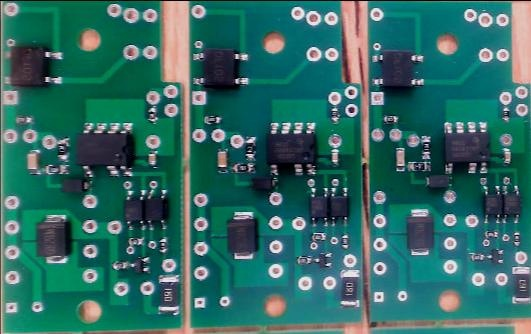chip-capacitor: (25, 148, 41, 175), (216, 147, 229, 173), (394, 146, 405, 172), (146, 149, 159, 169), (501, 147, 512, 165), (329, 148, 339, 166)
chip-resistor: (156, 273, 180, 315), (339, 267, 360, 307), (511, 264, 531, 304), (56, 135, 70, 161), (230, 161, 257, 174), (42, 163, 71, 175), (407, 159, 431, 172), (244, 135, 256, 160), (420, 134, 431, 159), (146, 104, 159, 124), (202, 113, 222, 124), (157, 236, 169, 254), (309, 231, 327, 242), (14, 114, 33, 124), (330, 105, 340, 124), (111, 259, 128, 270), (382, 113, 399, 124), (295, 254, 311, 265), (127, 236, 144, 246), (468, 251, 485, 261), (482, 229, 500, 238), (341, 233, 350, 250), (511, 230, 520, 247), (501, 105, 510, 122)
diode: (34, 212, 73, 265), (224, 209, 258, 261), (405, 206, 435, 256), (59, 177, 93, 194), (248, 175, 278, 191), (423, 172, 453, 188)
ic: (75, 120, 137, 178), (266, 120, 319, 177), (442, 120, 492, 175), (3, 44, 64, 88), (191, 48, 249, 88), (370, 48, 425, 88), (145, 188, 168, 230), (123, 188, 145, 230), (308, 186, 329, 226), (501, 184, 522, 224), (329, 186, 349, 227), (482, 184, 502, 223)
transistor: (129, 254, 151, 272), (313, 250, 333, 268), (486, 247, 505, 265)
